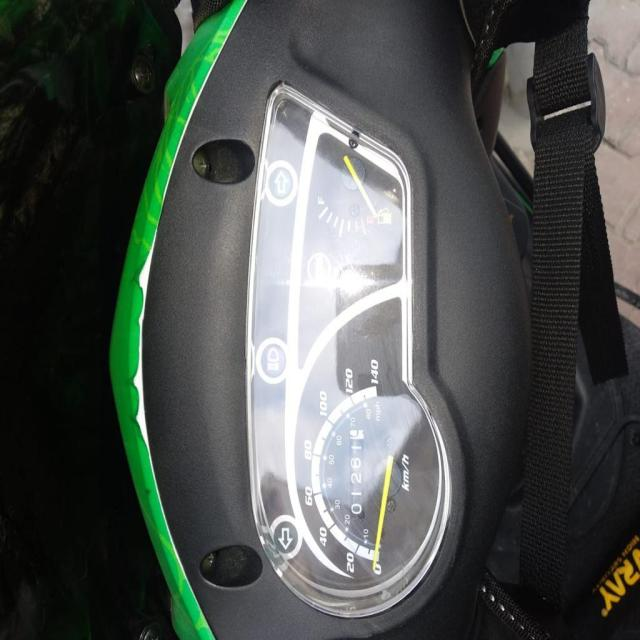odometer: (346, 426, 366, 522)
